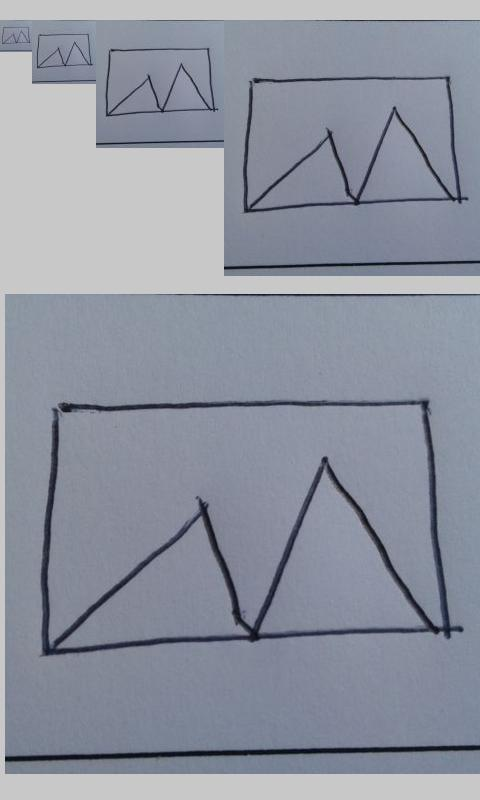image_view: (37, 397, 452, 656), (243, 76, 464, 214), (105, 47, 216, 117), (36, 32, 93, 69), (1, 26, 31, 45)
